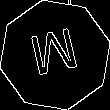M_S: (27, 25, 83, 85)
